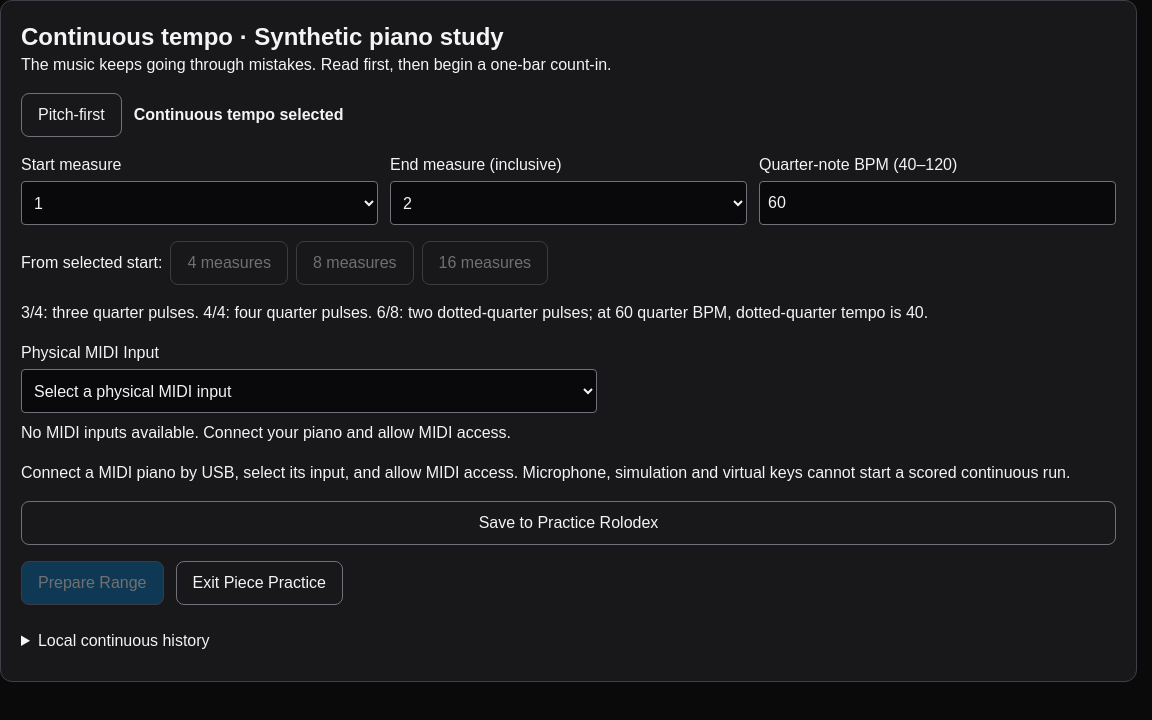
Scenario: continuous workspace and native ownership boundary › allows manual Rolodex saving without a physical MIDI connection or attempt
Click the button "Save to Practice Rolodex" at (568, 523), box [21,501,1116,545]
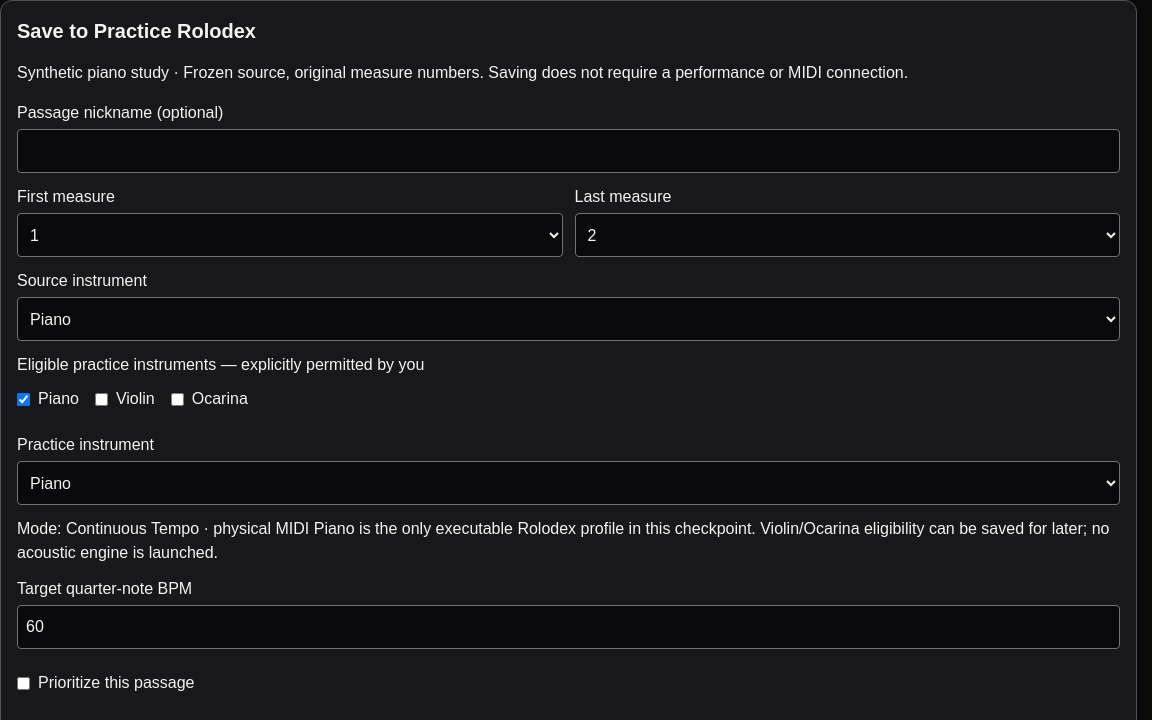
Check: the dropdown labelled "First measure" is shown, box [17,213,562,257]
Check: the dropdown labelled "Source instrument" shows "Piano", box [17,297,1120,341]
